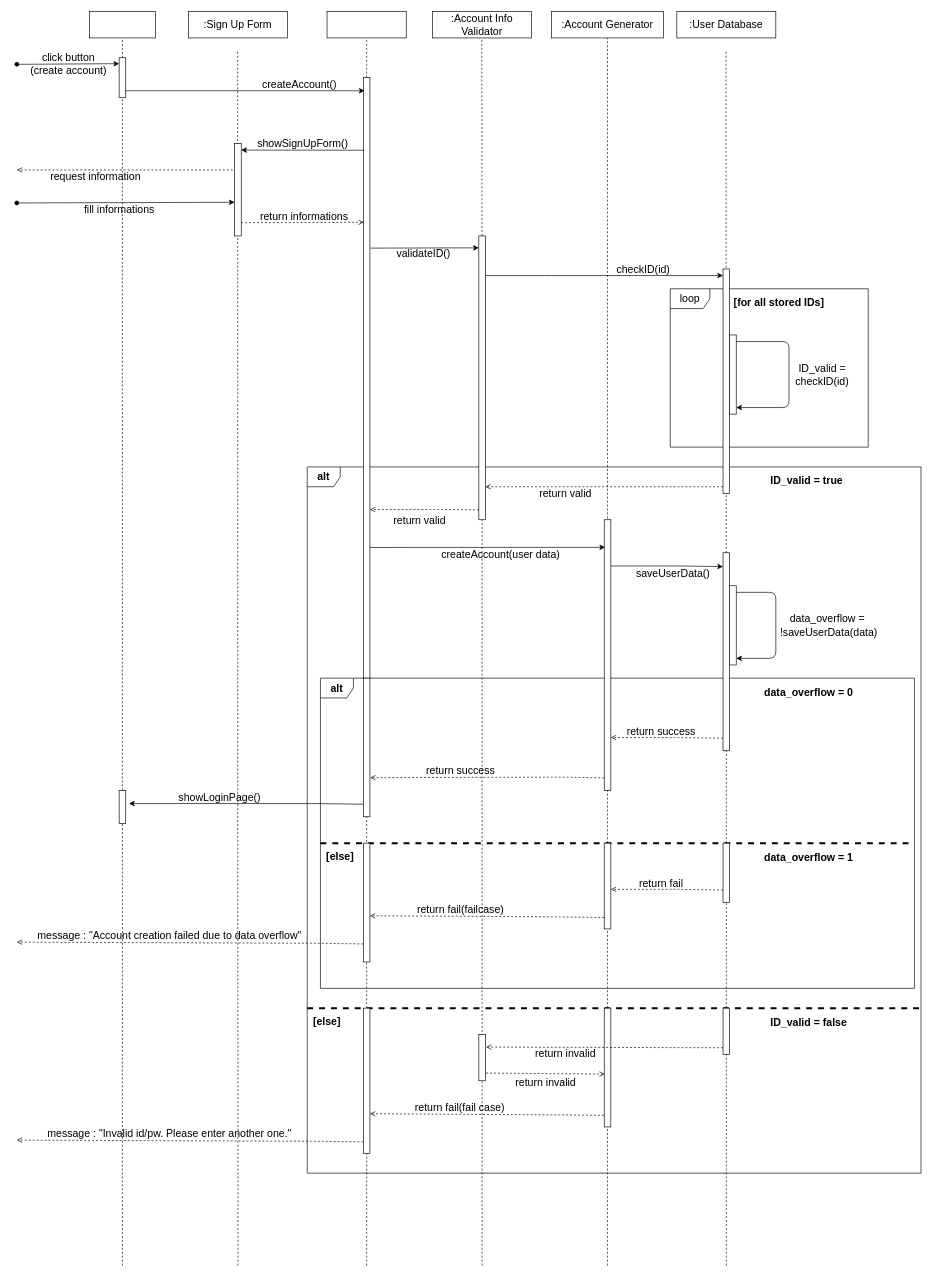
The diagram is 934 pixels wide and 1278 high, and some of its shapes have lost their labels. The centre of each missing label's shape, as x and y in pixels:
":Controller" belongs at point 366,24.
":Login Page" belongs at point 122,24.
